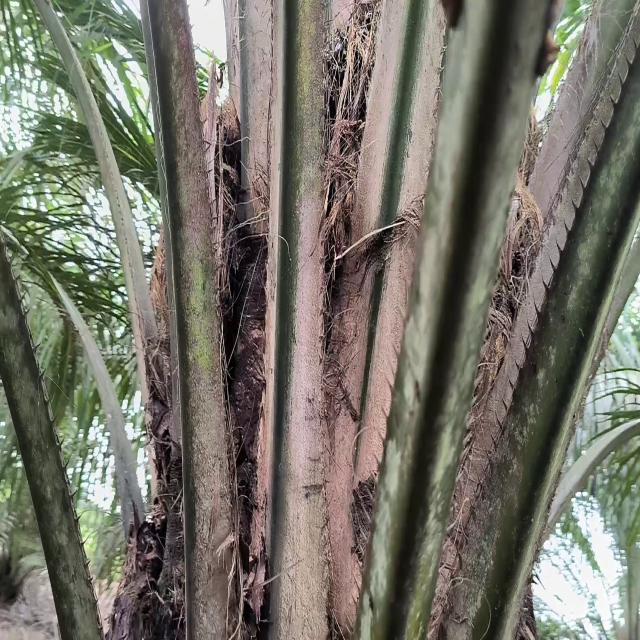palm-oil: (314, 19, 375, 253)
